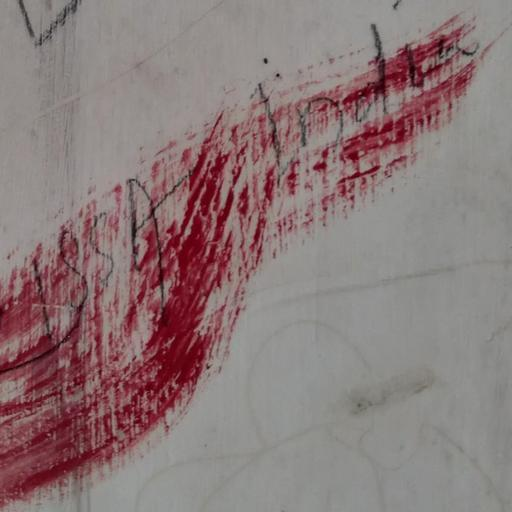stain: (3, 39, 512, 511), (0, 0, 93, 64)
